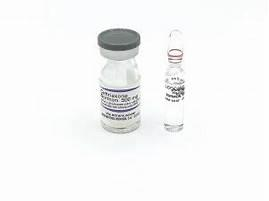Syringe: (88, 15, 146, 139), (156, 21, 190, 132)
